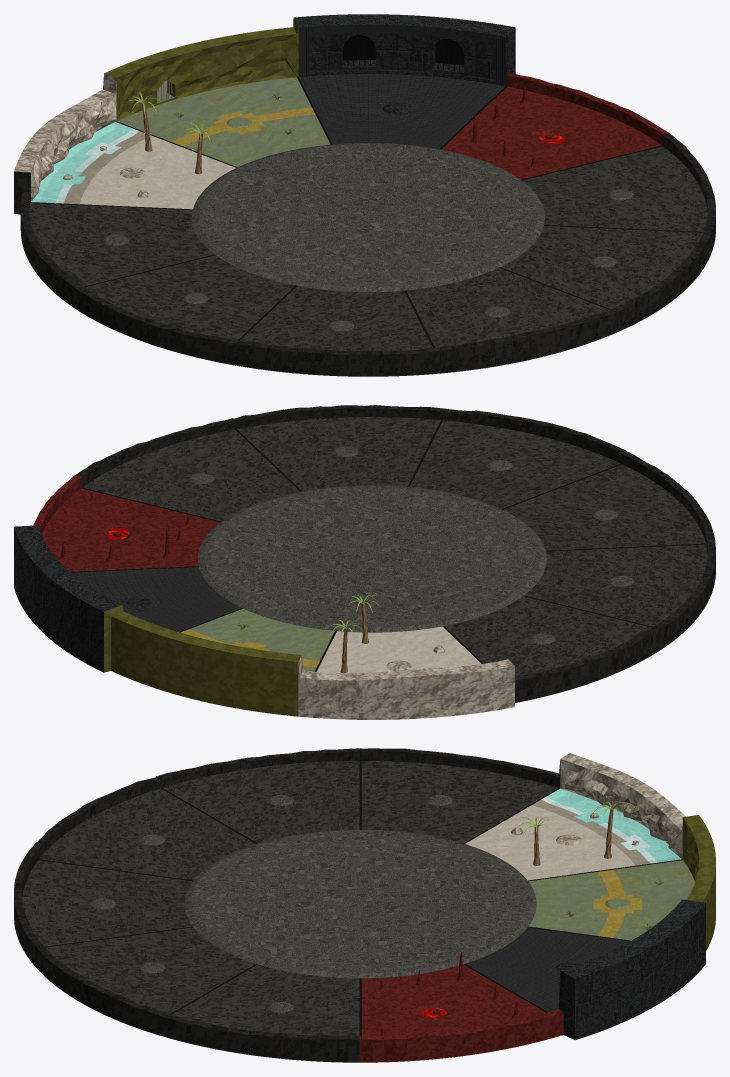
Rendered from hub_base.glb.
3 views of the same model, one above another, from view 1: azimuth 30°, elevation 25°; view 2: azimuth 150°, elevation 25°; view 3: azimuth 270°, elevation 25° (orthographic).
Visible parts, largest first — view 1: HubBaseRock; view 2: HubBaseRock; view 3: HubBaseRock.
Part boxes in pixels (x1,y1,x2,y2): HubBaseRock: (14, 14, 715, 376); HubBaseRock: (14, 405, 715, 719); HubBaseRock: (14, 748, 715, 1062).
Size of what is drawn, in the model's own units: 102 by 10.41 by 104.
Materials: 25 (25 with a texture image).
